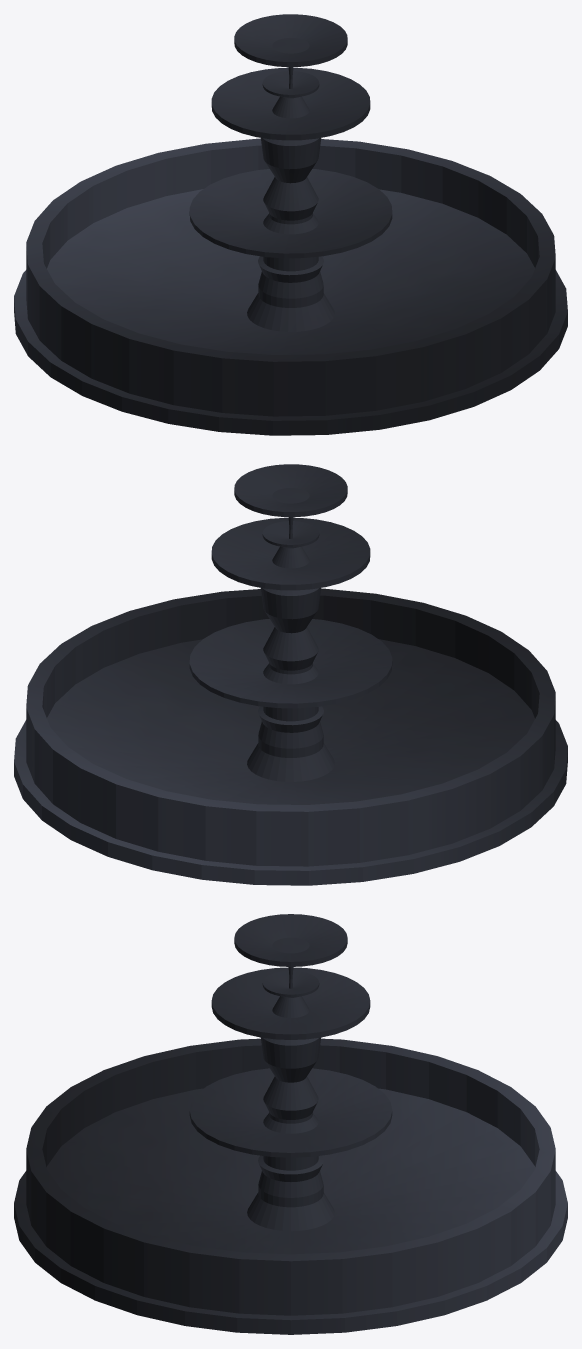
File: fountain.fbx
3 renders of one model, top to bottom at view 1: azimuth 30°, elevation 25°; view 2: azimuth 150°, elevation 25°; view 3: azimuth 270°, elevation 25°, orthographic.
Visible parts, largest first — view 1: Cylinder; view 2: Cylinder; view 3: Cylinder.
Part boxes in pixels (left/top/right/bottom): Cylinder: left=14, top=14, right=567, bottom=435; Cylinder: left=14, top=464, right=567, bottom=885; Cylinder: left=14, top=914, right=567, bottom=1334.
Size of the model in its own units: 620 by 346 by 620.
Materials: 1 (1 with a texture image).
